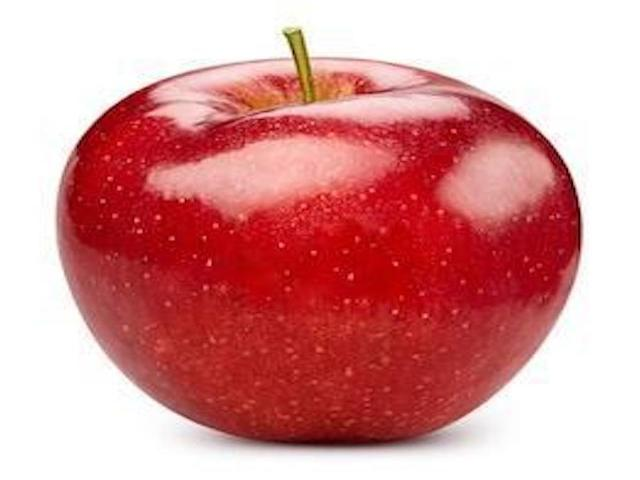apple: (52, 22, 587, 448)
